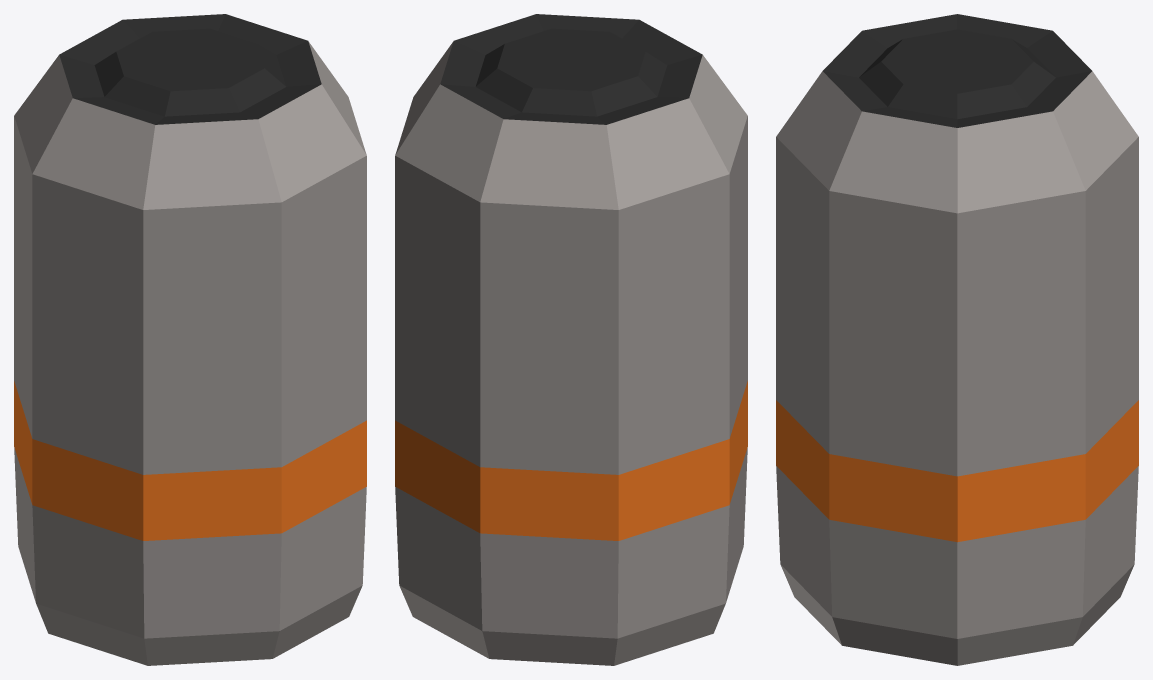
The model's file is scifi-resource-canister.glb.
The picture shows the model from 3 angles, left to right: view 1: azimuth 30°, elevation 25°; view 2: azimuth 150°, elevation 25°; view 3: azimuth 270°, elevation 25°; orthographic projection.
Parts seen in each view (by area): view 1: scifi-resource-canister; view 2: scifi-resource-canister; view 3: scifi-resource-canister.
Boxes of the visible parts, x1,y1,x2,y2 form: scifi-resource-canister: (14, 14, 366, 665); scifi-resource-canister: (395, 14, 747, 665); scifi-resource-canister: (776, 14, 1138, 665).
Bounding box in the file's own units: 0.5 × 0.8144 × 0.5.
1 material, 1 textured.
